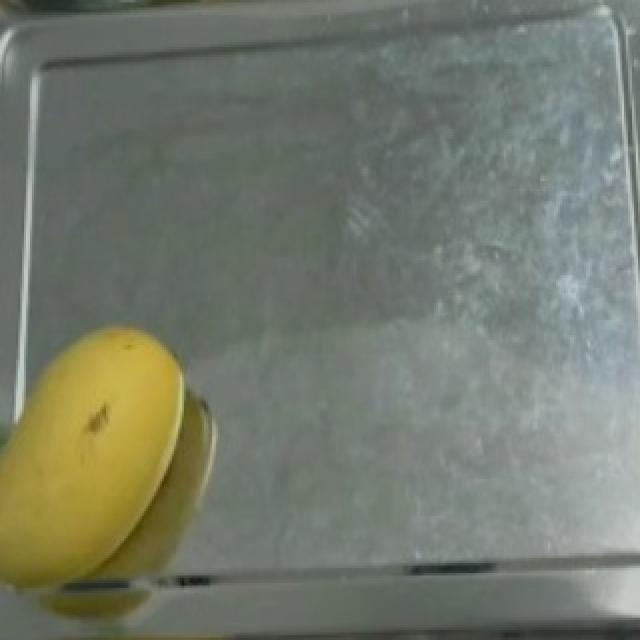fruit: (0, 302, 210, 608)
